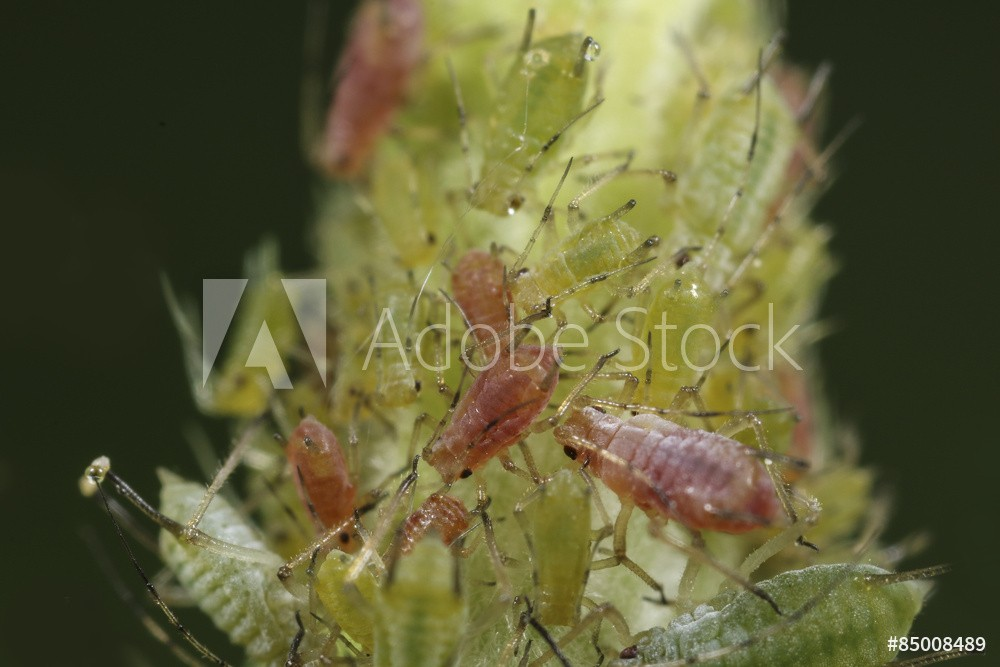Pulgon: (553, 373, 823, 572), (643, 31, 827, 301), (122, 443, 327, 667), (415, 6, 622, 227), (608, 541, 951, 667), (414, 331, 567, 479), (505, 456, 615, 649), (272, 403, 397, 569), (497, 206, 675, 319), (437, 241, 552, 371)
